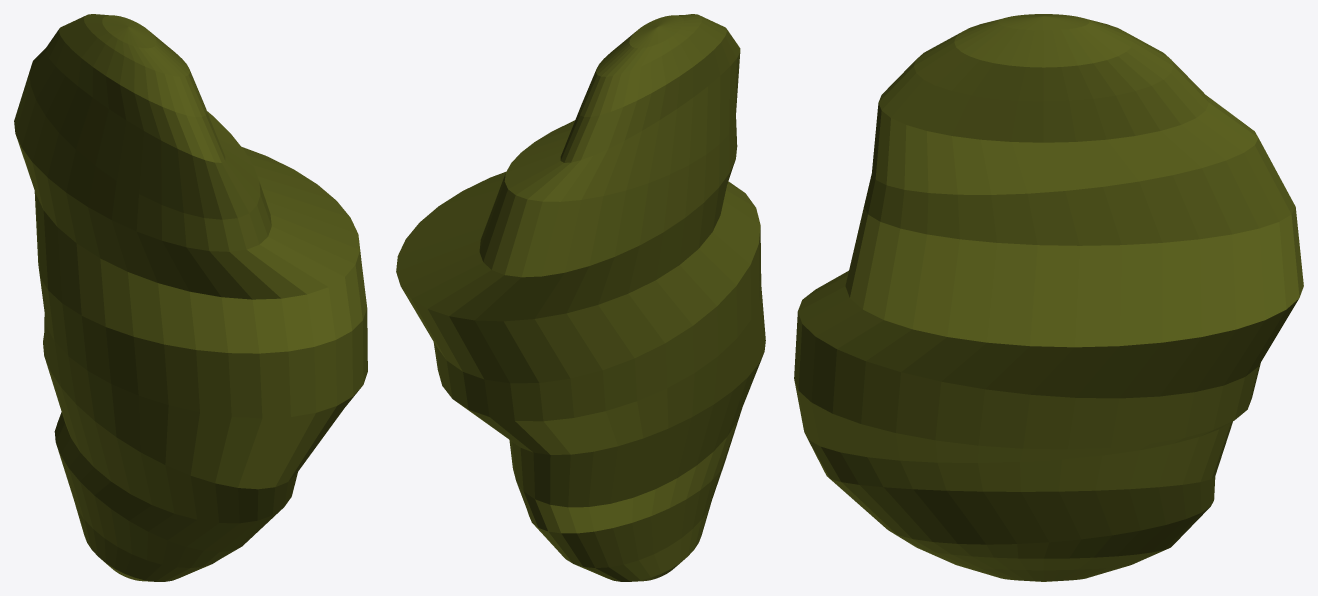
Rendered from poopLutraLutra.fbx.
3 views of the same model, side by side, from view 1: azimuth 30°, elevation 25°; view 2: azimuth 150°, elevation 25°; view 3: azimuth 270°, elevation 25° (orthographic). The views are drawn at different scales.
Visible parts, largest first — view 1: otter_poop; view 2: otter_poop; view 3: otter_poop.
Part boxes in pixels (bbox=[...]): otter_poop: bbox=[14, 14, 367, 581]; otter_poop: bbox=[396, 14, 765, 581]; otter_poop: bbox=[794, 14, 1303, 581].
Bounding box in the file's own units: 3.18 × 6.4 × 5.24.
